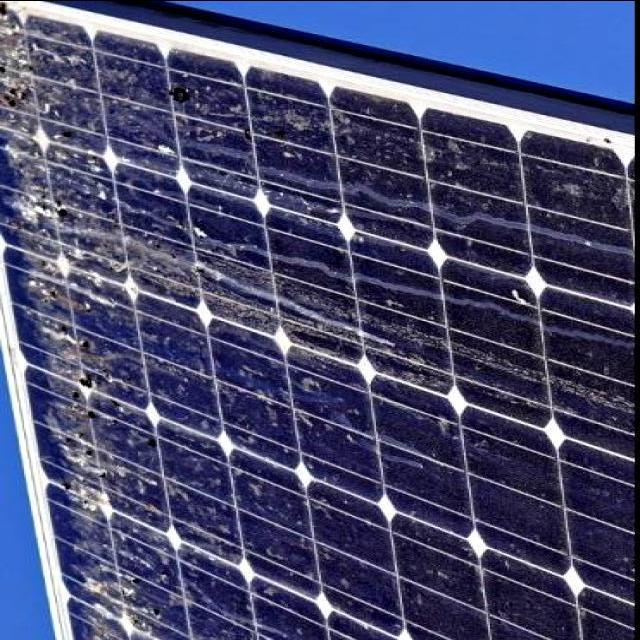soiled: (4, 1, 640, 634)
